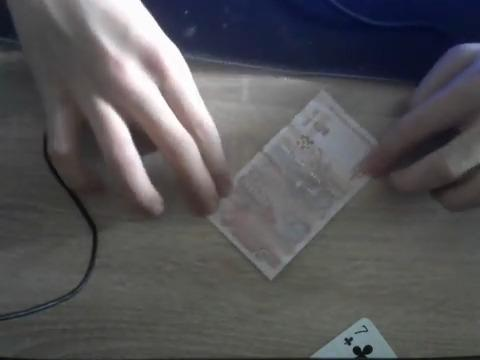5leva: (206, 91, 379, 281)
